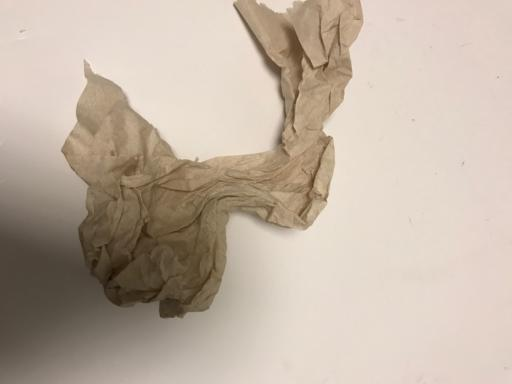trash: (59, 3, 364, 320)
